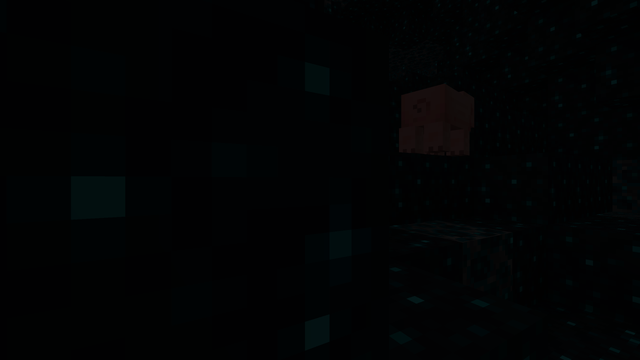cochons: (393, 80, 483, 157)
